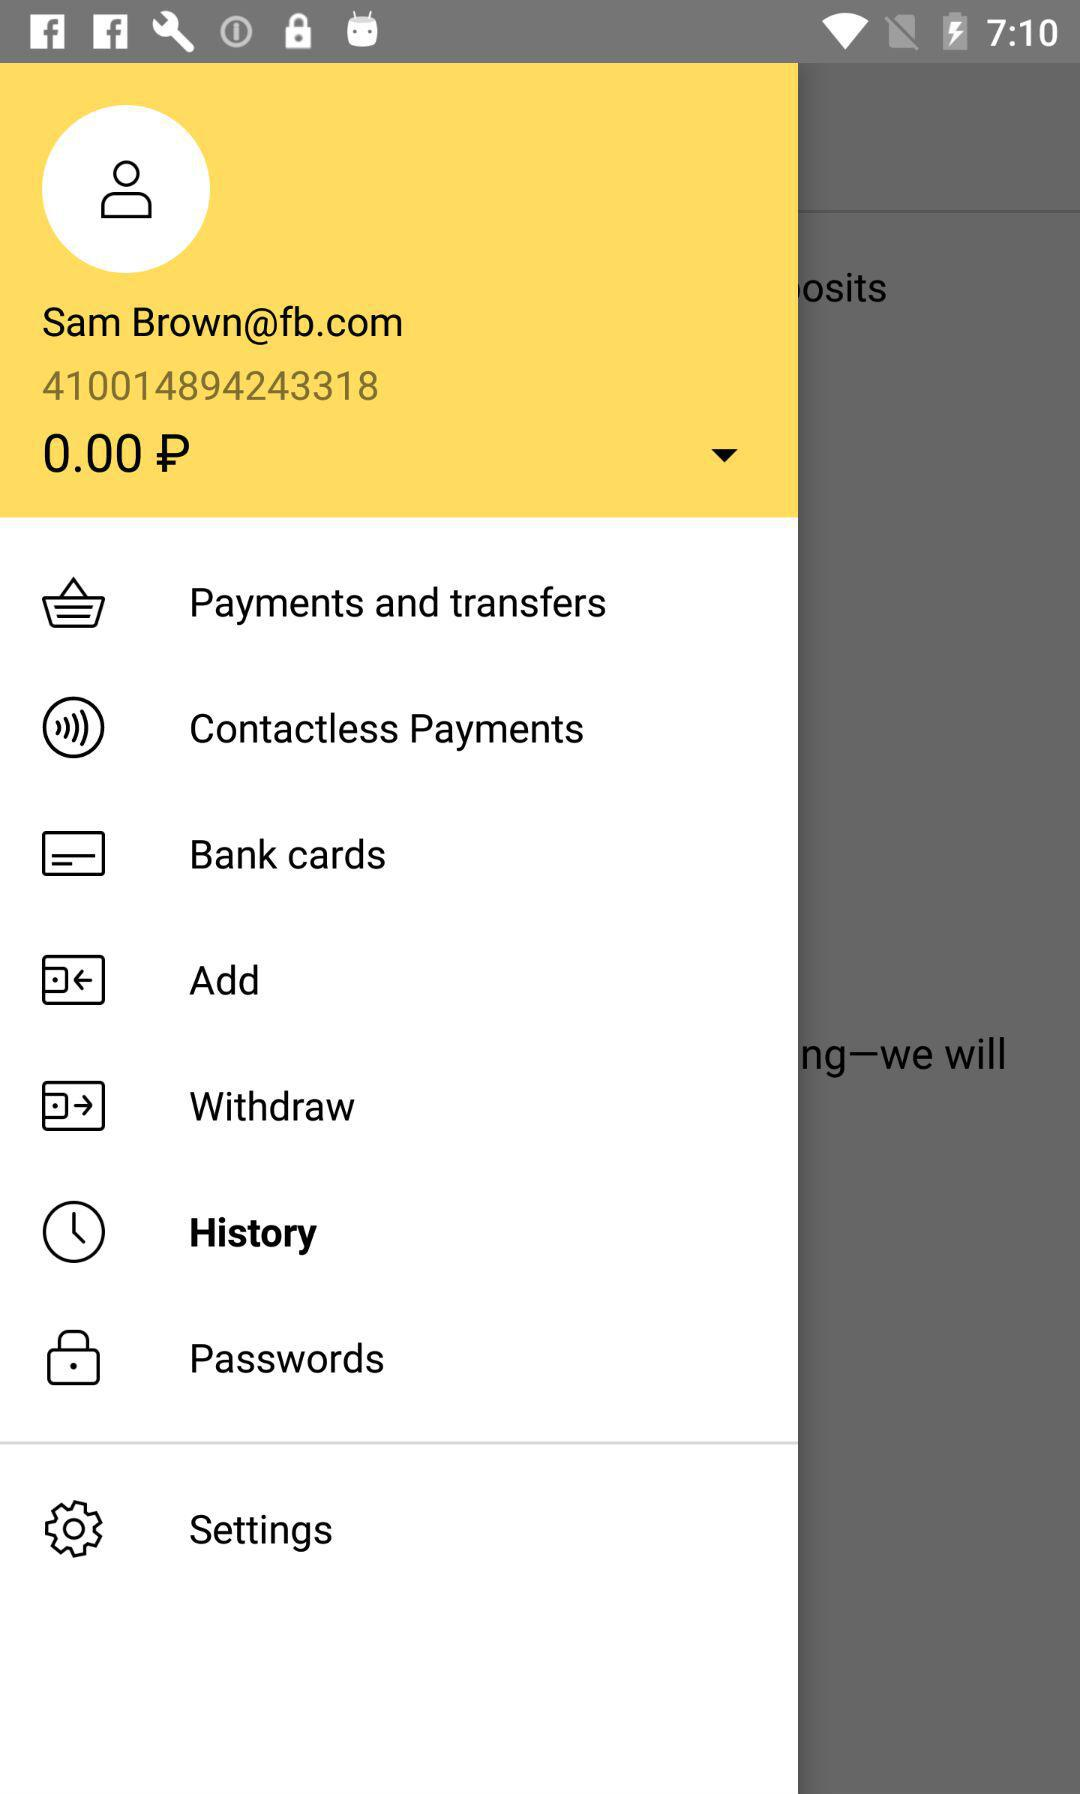Drawer: (1, 64, 798, 1794)
Icon: (42, 105, 211, 274), (44, 1199, 108, 1263), (45, 1499, 105, 1559), (42, 575, 108, 629), (42, 953, 108, 1006), (42, 1080, 108, 1132), (47, 1329, 102, 1387), (42, 830, 108, 876), (711, 448, 739, 464)
Image: (44, 696, 106, 760)
Text: (192, 586, 607, 627), (191, 712, 584, 753), (41, 305, 404, 349), (41, 366, 379, 402), (192, 1340, 386, 1375), (192, 838, 387, 871), (44, 432, 192, 475), (190, 1513, 333, 1553), (190, 1089, 356, 1123), (191, 1216, 319, 1257), (190, 964, 260, 997)
UpperTaskBar: (1, 1, 1080, 64)
